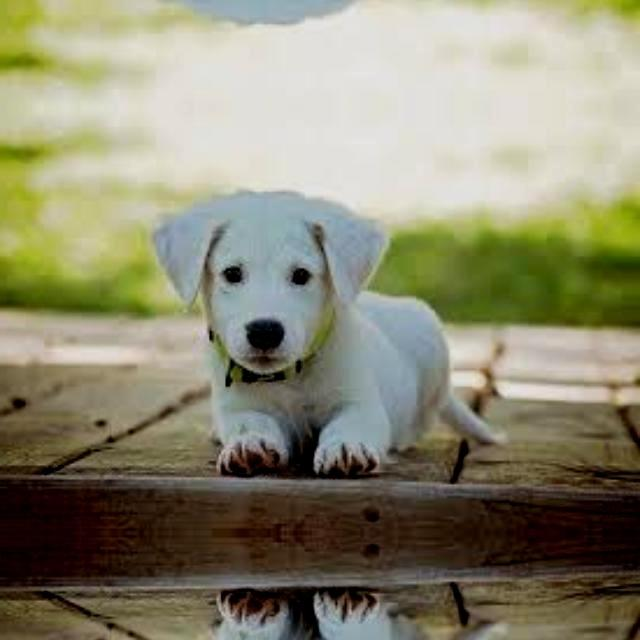dog: (136, 180, 472, 504), (137, 560, 472, 640), (137, 0, 472, 34)
